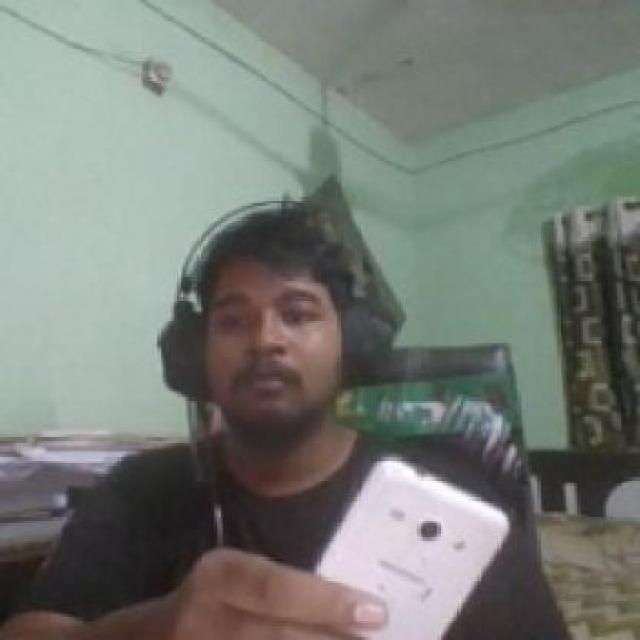Phone: (306, 456, 514, 637)
